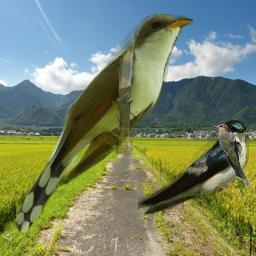Cuckoo: (16, 14, 193, 232), (212, 124, 250, 197)
Swallow: (138, 119, 249, 216)
